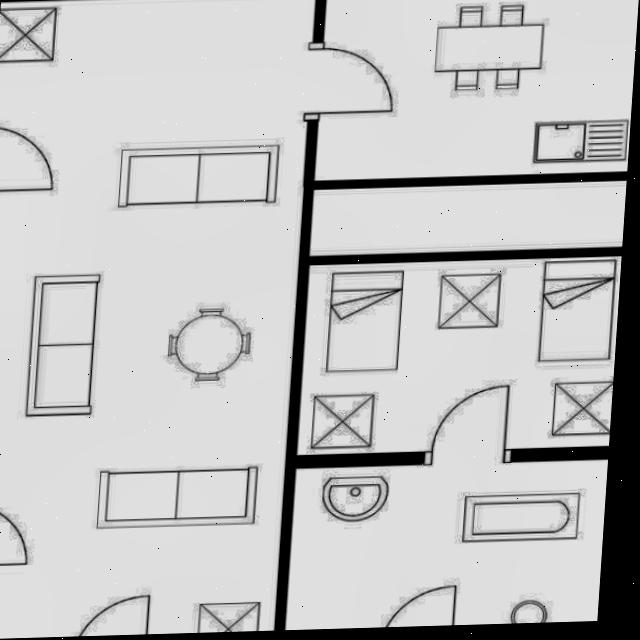room: (0, 0, 316, 639), (290, 256, 627, 455), (314, 0, 639, 182), (280, 460, 613, 630)
